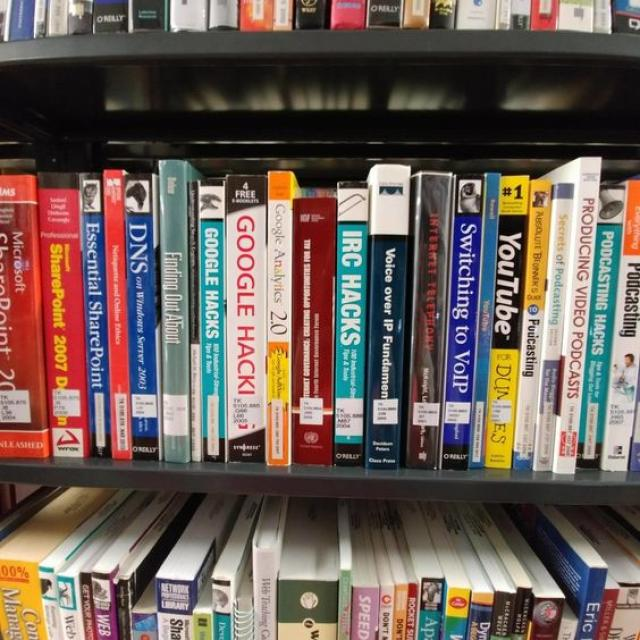book: (553, 157, 602, 473), (577, 182, 626, 470), (365, 166, 410, 470), (0, 174, 48, 457), (406, 173, 452, 468), (440, 173, 485, 470), (37, 173, 84, 457), (485, 176, 528, 467), (533, 182, 574, 472), (513, 180, 553, 470), (227, 176, 265, 462), (294, 198, 333, 465), (126, 174, 160, 460), (335, 183, 368, 465), (160, 161, 190, 462), (79, 172, 110, 456), (471, 174, 501, 467), (197, 179, 226, 463), (104, 168, 130, 460), (267, 172, 289, 464), (189, 182, 201, 462)
